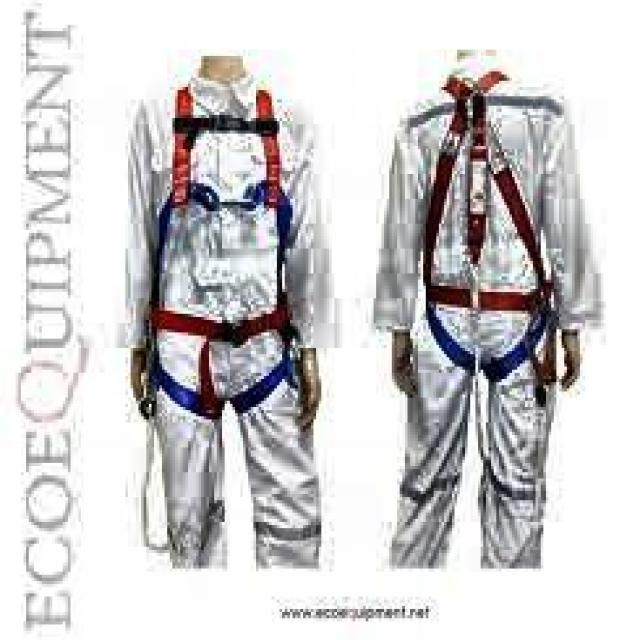belt: (138, 74, 300, 420), (420, 71, 564, 392)
